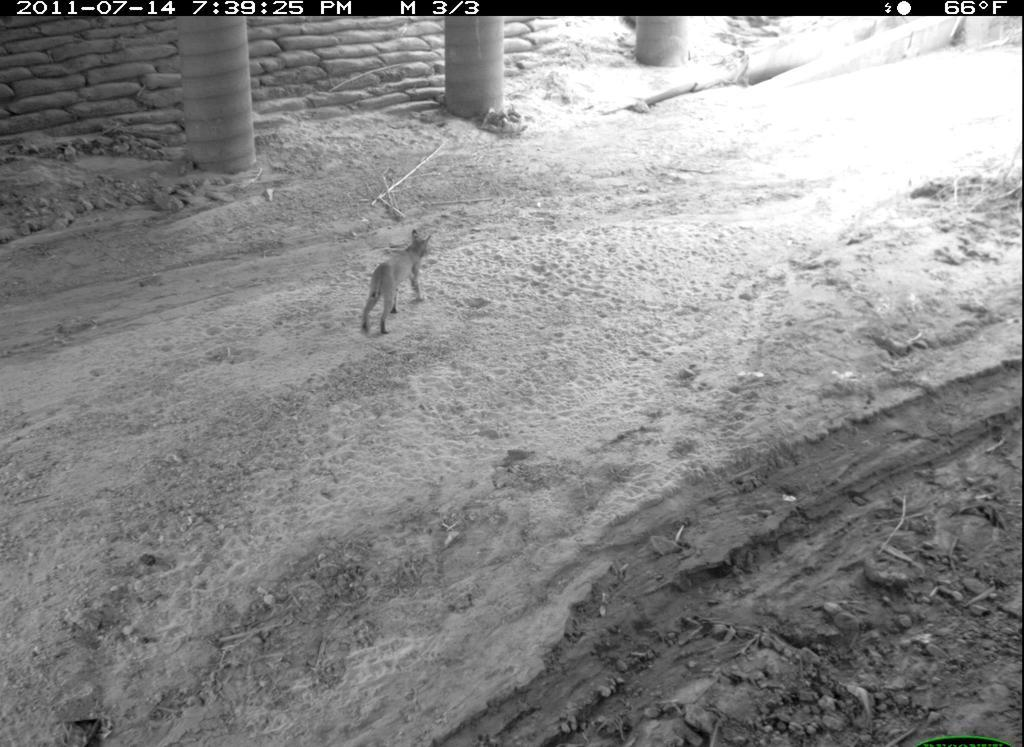bobcat: (358, 226, 441, 340)
